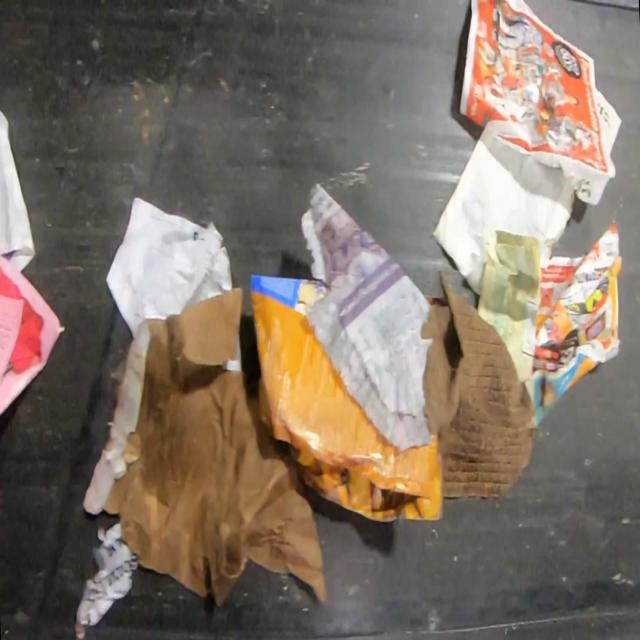cardboard: (249, 272, 442, 522), (421, 269, 538, 498)
